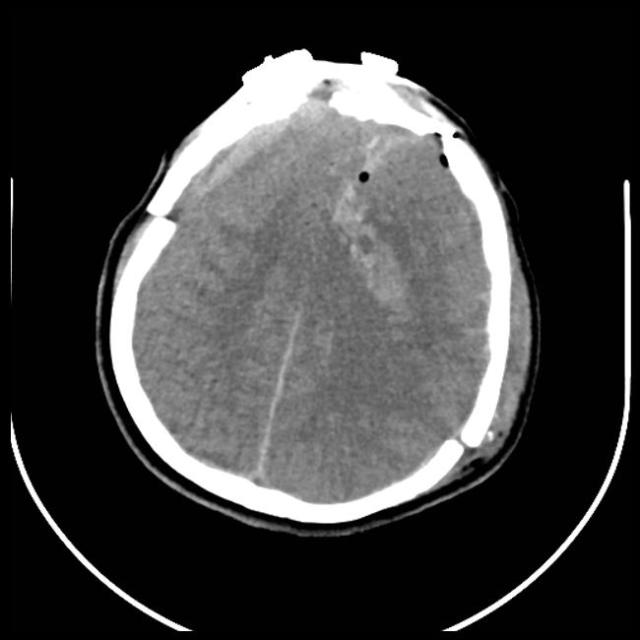lesion: (96, 47, 540, 529)
